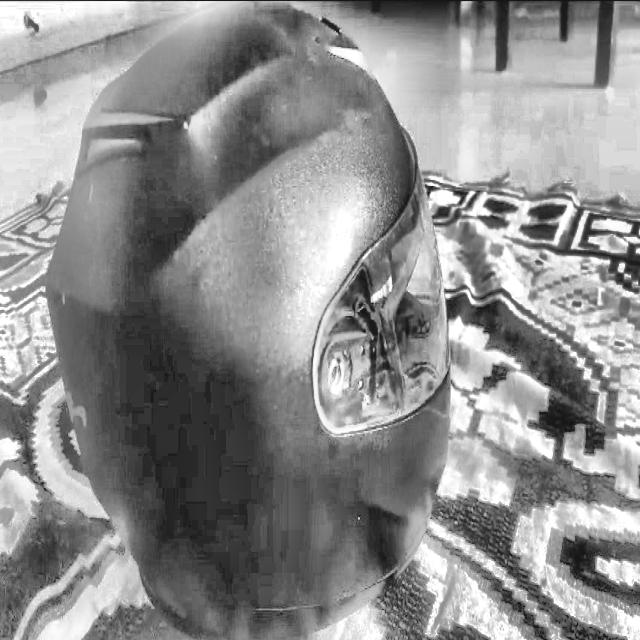Helmet: (41, 0, 452, 640)
